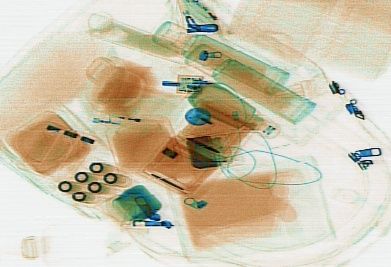lighter: (188, 1, 231, 36), (89, 107, 142, 127)
pressure: (149, 18, 289, 96), (183, 42, 316, 123)
